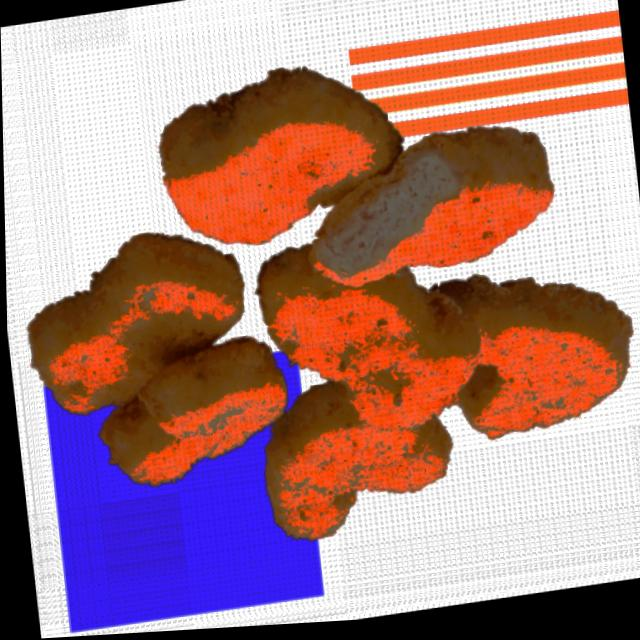chicken_nuggets: (147, 42, 416, 271), (245, 220, 484, 463), (290, 120, 588, 310), (17, 217, 249, 434), (445, 245, 640, 469), (258, 364, 455, 565), (91, 330, 286, 522)
